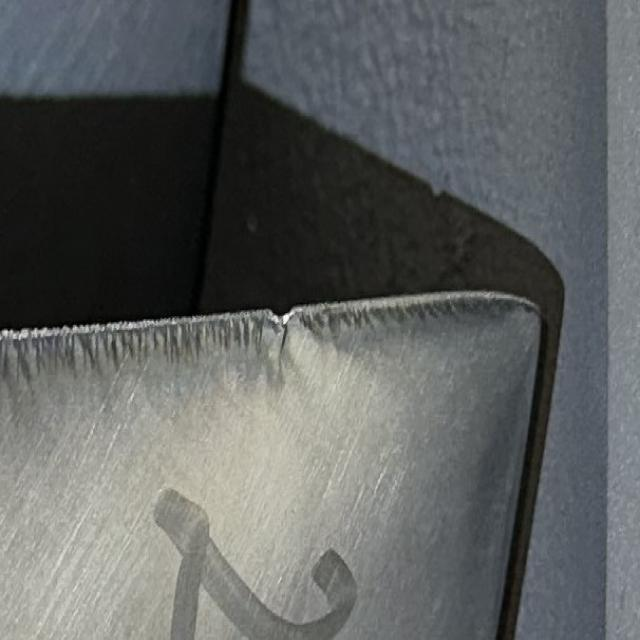dent: (239, 286, 311, 350)
